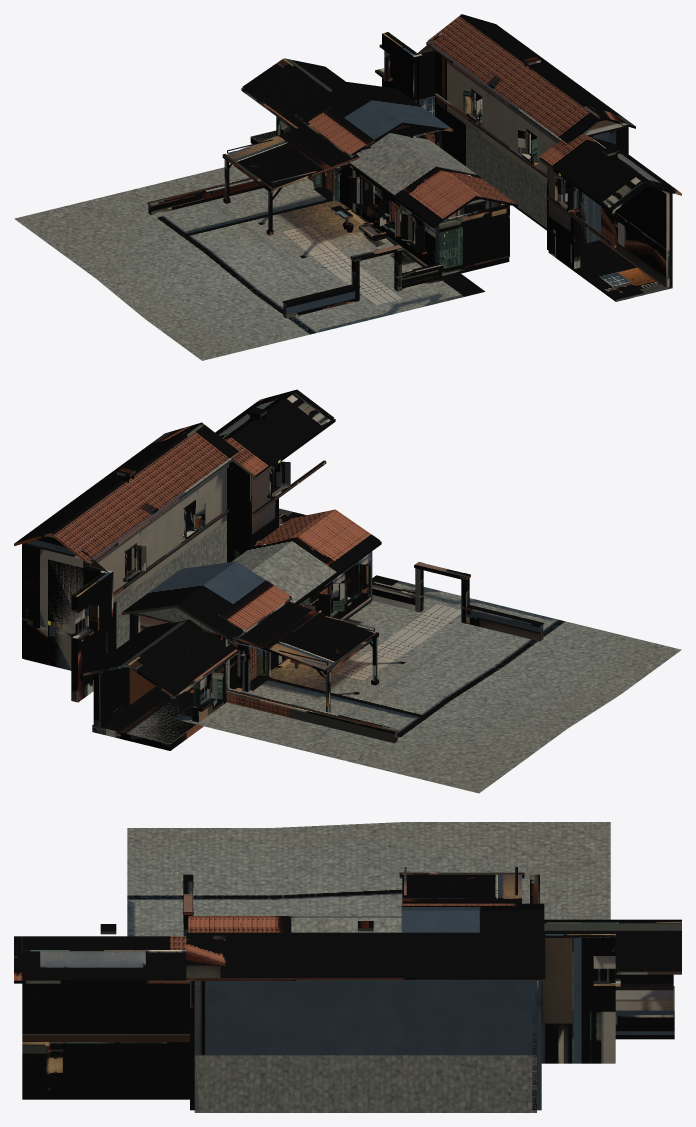
The model's file is environment.obj.
3 views of the same model, one above another, from view 1: azimuth 30°, elevation 25°; view 2: azimuth 150°, elevation 25°; view 3: azimuth 270°, elevation 25° (orthographic). The views are drawn at different scales.
Visible parts, largest first — view 1: st_maria_praca_TH_RENDER_EnvironmentBakedAtlas; view 2: st_maria_praca_TH_RENDER_EnvironmentBakedAtlas; view 3: st_maria_praca_TH_RENDER_EnvironmentBakedAtlas.
Boxes of the visible parts, bbox=[...] form: st_maria_praca_TH_RENDER_EnvironmentBakedAtlas: bbox=[14, 14, 681, 360]; st_maria_praca_TH_RENDER_EnvironmentBakedAtlas: bbox=[14, 389, 681, 793]; st_maria_praca_TH_RENDER_EnvironmentBakedAtlas: bbox=[14, 822, 681, 1112].
Size of the model in its own units: 32.23 by 8.95 by 31.8.
